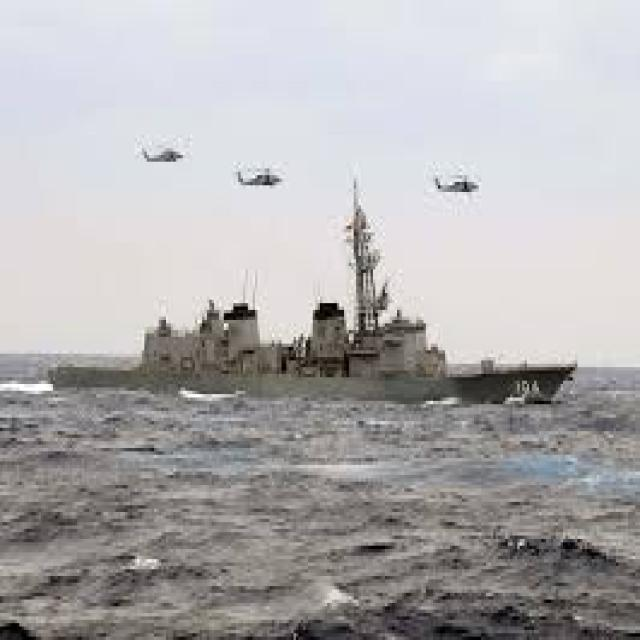navalvessels: (54, 198, 590, 408)
